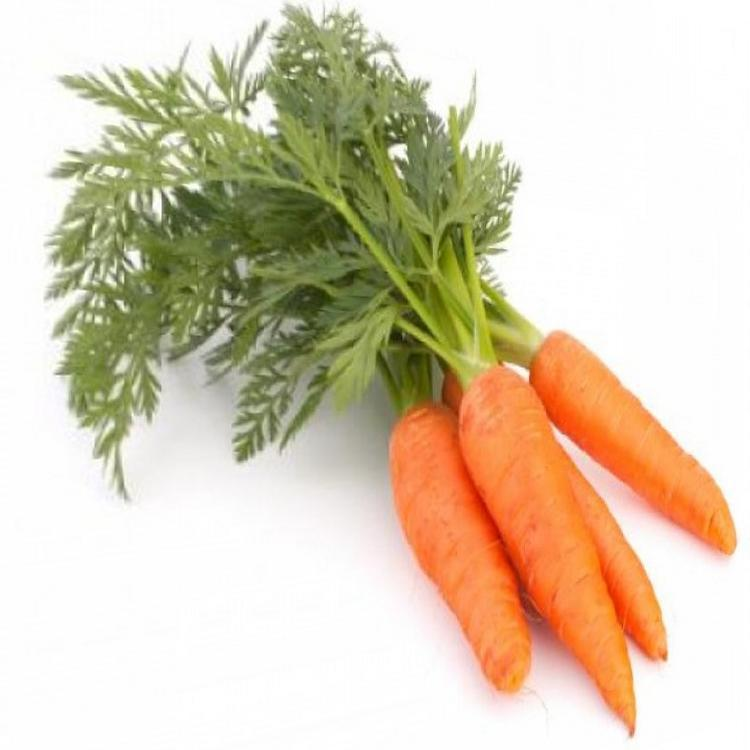carrot: (65, 39, 650, 745), (284, 168, 656, 718), (320, 301, 740, 750)
